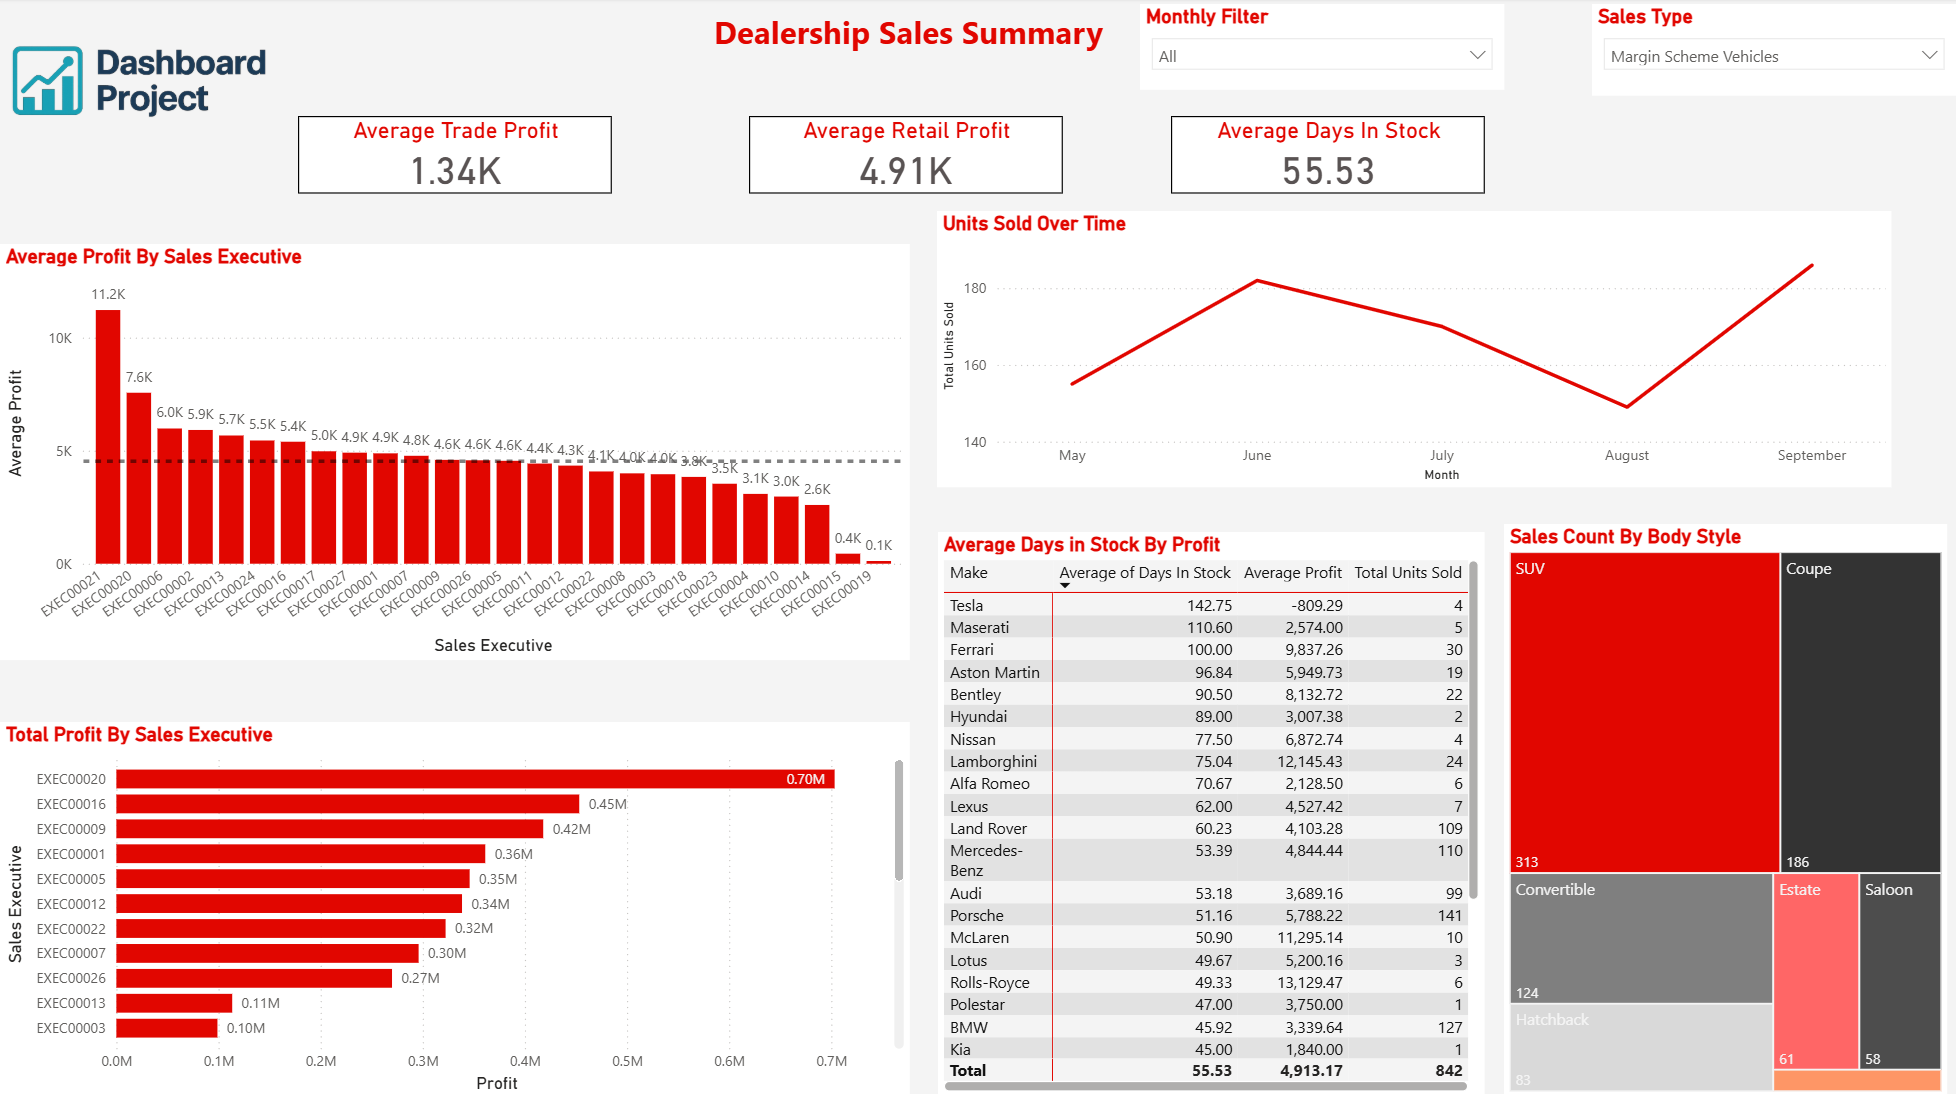

What the dashboard file says about the page in this screenshot:
{"tool":"powerbi","page":{"name":"Sales Summary","canvas":[1664,936],"ordinal":1},"visuals":[{"type":"barChart","title":"Total Profit By Sales Executive","fields":{"Category":["Sales_May_June_2025.Sales Executive"],"Y":["Saved Measures.Profit"]},"box":[0,615.8,773.8,319.9],"z":1000},{"type":"slicer","title":"Sales Type","fields":{"Values":["Sales_May_June_2025.Sale Type Group"]},"box":[1354.2,5.1,309.8,78.4],"z":2000},{"type":"lineChart","title":"Units Sold Over Time","fields":{"Y":["Saved Measures.Total Units Sold"],"Category":["DateTable.Month"]},"box":[797.5,181.1,812.4,235.2],"z":3000},{"type":"clusteredColumnChart","title":"Average Profit By Sales Executive","fields":{"Category":["Sales_May_June_2025.Sales Executive"],"Y":["Saved Measures.Average Profit"]},"box":[0,209.2,773.7,354],"z":4000},{"type":"pivotTable","title":"Average Days in Stock  By Profit","fields":{"Rows":["Sales_May_June_2025.Make"],"Values":["Avg(Sales_May_June_2025.Days In Stock)","Saved Measures.Average Profit","Saved Measures.Total Units Sold"]},"box":[797.8,454.5,465.3,481.4],"z":5000},{"type":"textbox","box":[602,5.4,603.4,72.4],"z":6000},{"type":"slicer","title":"Monthly Filter","fields":{"Values":["DateTable.Month"]},"box":[969.8,5.1,309.8,73.3],"z":7000},{"type":"card","title":"Average Trade Profit","fields":{"Values":["Saved Measures.Average Trade Profit"]},"box":[253.4,100.6,266.8,65.7],"z":8000},{"type":"card","title":"Average Retail Profit","fields":{"Values":["Saved Measures.Average Retail Profit"]},"box":[636.9,100.6,266.8,65.7],"z":9000},{"type":"card","title":"Average Days In Stock","fields":{"Values":["Avg(Sales_May_June_2025.Days In Stock)"]},"box":[996.3,100.6,266.8,65.7],"z":10000},{"type":"treemap","title":"Sales Count By Body Style","fields":{"Group":["Sales_May_June_2025.BodyStyle"],"Values":["Saved Measures.Total Units Sold"]},"box":[1279.9,447.4,377,487.5],"z":11000},{"type":"image","box":[0,0,239.9,149.7],"z":11001}]}

Visuals, with their boxes in screenshot pixels (x1, y1, x2, y2), scaled from the page's 1664x936 canvas onto the 1956x1094 screenshot:
"Total Profit By Sales Executive" barChart: (x1=0, y1=720, x2=910, y2=1093)
"Sales Type" slicer: (x1=1592, y1=6, x2=1955, y2=98)
"Units Sold Over Time" lineChart: (x1=937, y1=212, x2=1892, y2=487)
"Average Profit By Sales Executive" clusteredColumnChart: (x1=0, y1=245, x2=909, y2=658)
"Average Days in Stock  By Profit" pivotTable: (x1=938, y1=531, x2=1485, y2=1093)
textbox: (x1=708, y1=6, x2=1417, y2=91)
"Monthly Filter" slicer: (x1=1140, y1=6, x2=1504, y2=92)
"Average Trade Profit" card: (x1=298, y1=118, x2=611, y2=194)
"Average Retail Profit" card: (x1=749, y1=118, x2=1062, y2=194)
"Average Days In Stock" card: (x1=1171, y1=118, x2=1485, y2=194)
"Sales Count By Body Style" treemap: (x1=1504, y1=523, x2=1948, y2=1093)
image: (x1=0, y1=0, x2=282, y2=175)
